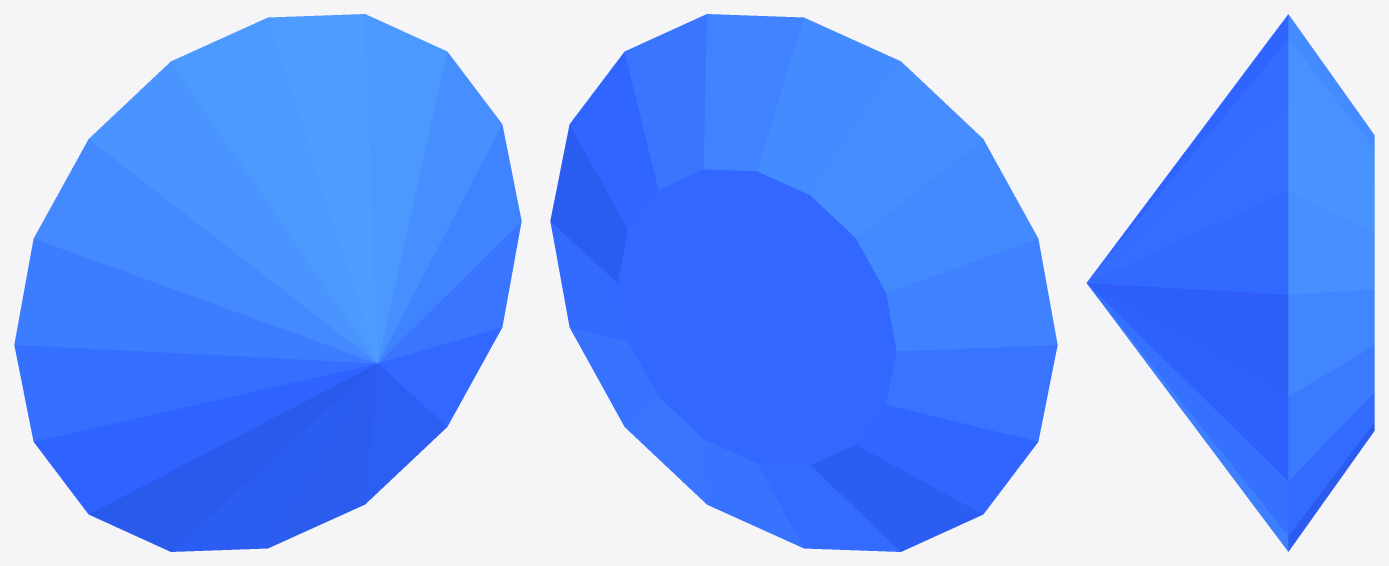
The picture shows the model from 3 angles, left to right: view 1: azimuth 30°, elevation 25°; view 2: azimuth 150°, elevation 25°; view 3: azimuth 270°, elevation 25°; orthographic projection. The views are drawn at different scales.
Parts seen in each view (by area): view 1: glow_Gem_blue; view 2: glow_Gem_blue; view 3: glow_Gem_blue.
Part boxes in pixels (box(x1,y1,x2,y2)): glow_Gem_blue: box(14, 14, 521, 551); glow_Gem_blue: box(550, 14, 1057, 551); glow_Gem_blue: box(1086, 14, 1374, 551).
Size of the model in its own units: 0.9 by 0.9 by 0.4815.
